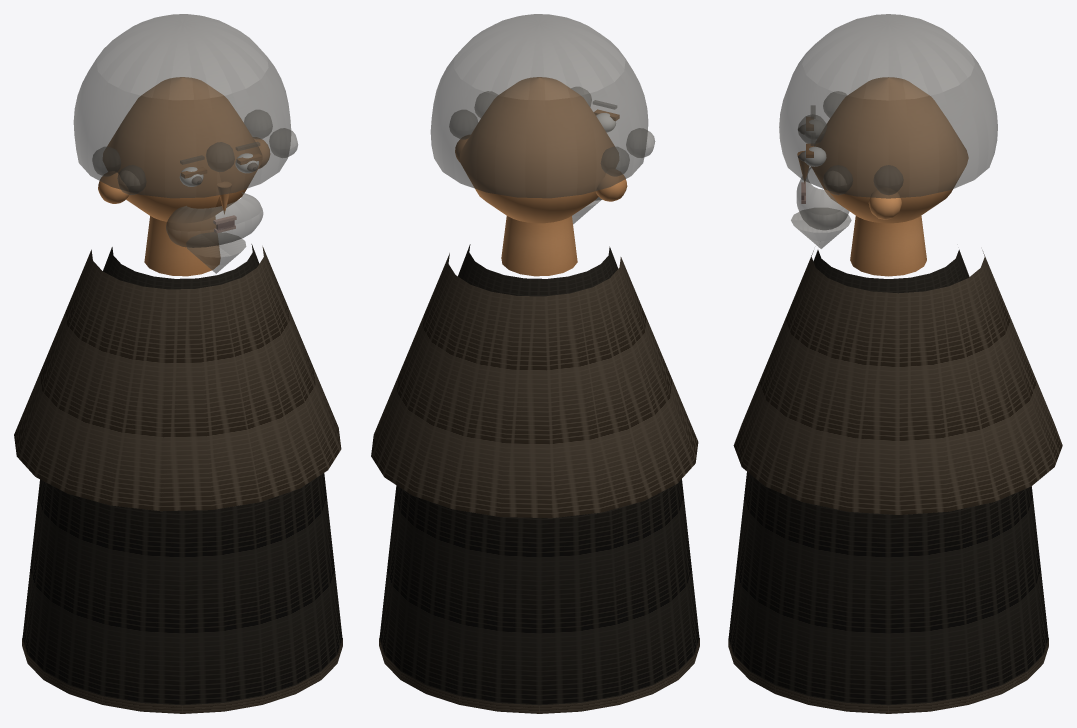
The model's file is local_traveler.glb.
The picture shows the model from 3 angles, left to right: view 1: azimuth 30°, elevation 25°; view 2: azimuth 150°, elevation 25°; view 3: azimuth 270°, elevation 25°; orthographic projection.
Visible parts, largest first — view 1: Character_local_traveler, head; view 2: Character_local_traveler, head; view 3: Character_local_traveler, head.
Part boxes in pixels (box(x1,y1,x2,y2)): Character_local_traveler: box(14, 14, 342, 713); head: box(103, 77, 262, 222); Character_local_traveler: box(371, 14, 699, 713); head: box(460, 77, 618, 223); Character_local_traveler: box(728, 14, 1062, 713); head: box(811, 77, 968, 223).
Size of the model in its own units: 0.8627 by 1.8 by 0.877.
Materials: 10 (5 with a texture image).
